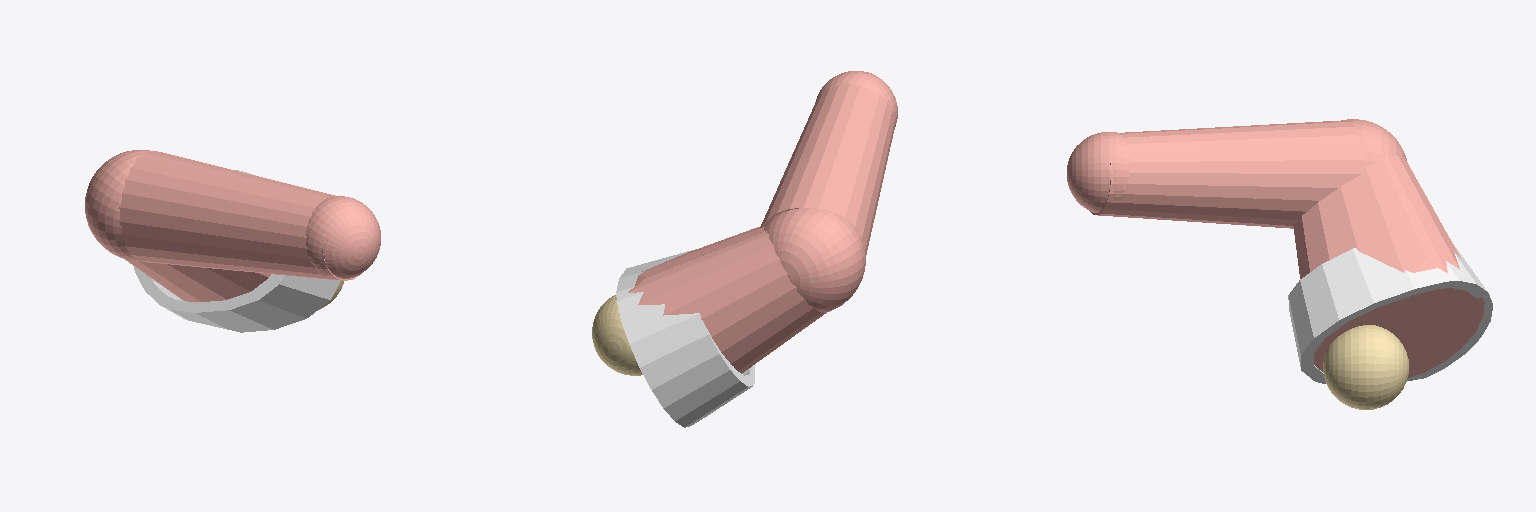
The model's file is tinker.obj.
3 views of the same model, side by side, from view 1: azimuth 30°, elevation 25°; view 2: azimuth 150°, elevation 25°; view 3: azimuth 270°, elevation 25° (orthographic).
Visible parts, largest first — view 1: obj_0; view 2: obj_0; view 3: obj_0.
Boxes of the visible parts, box(x1,y1,x2,y2) form: obj_0: box(85, 150, 380, 332); obj_0: box(592, 71, 897, 427); obj_0: box(1067, 119, 1492, 409).
Bounding box in the file's own units: 29.27 × 26.25 × 42.54.